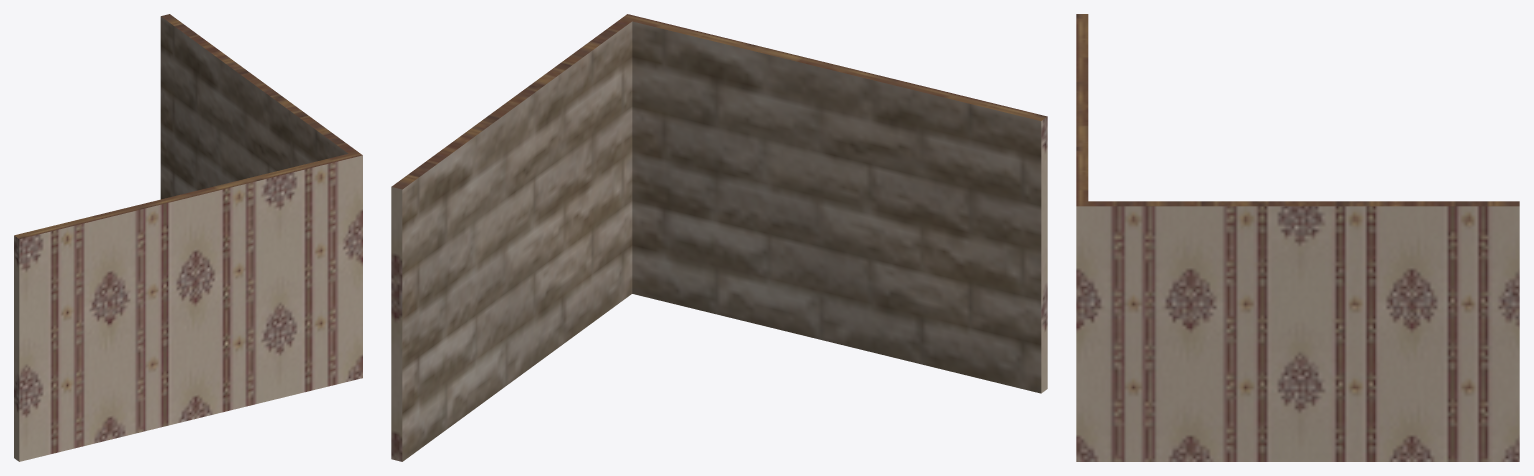
Rendered from outer_wall2.dae.
3 renders of one model, left to right at view 1: azimuth 30°, elevation 25°; view 2: azimuth 150°, elevation 25°; view 3: azimuth 270°, elevation 25°, orthographic. The views are drawn at different scales.
Parts seen in each view (by area): view 1: Plane.004; view 2: Plane.004; view 3: Plane.004.
Part boxes in pixels (bbox=[...]): Plane.004: bbox=[14, 14, 362, 461]; Plane.004: bbox=[391, 14, 1047, 461]; Plane.004: bbox=[1076, 14, 1519, 461].
Bounding box in the file's own units: 5.65 × 5.5 × 3.5.
Materials: 1 (1 with a texture image).
